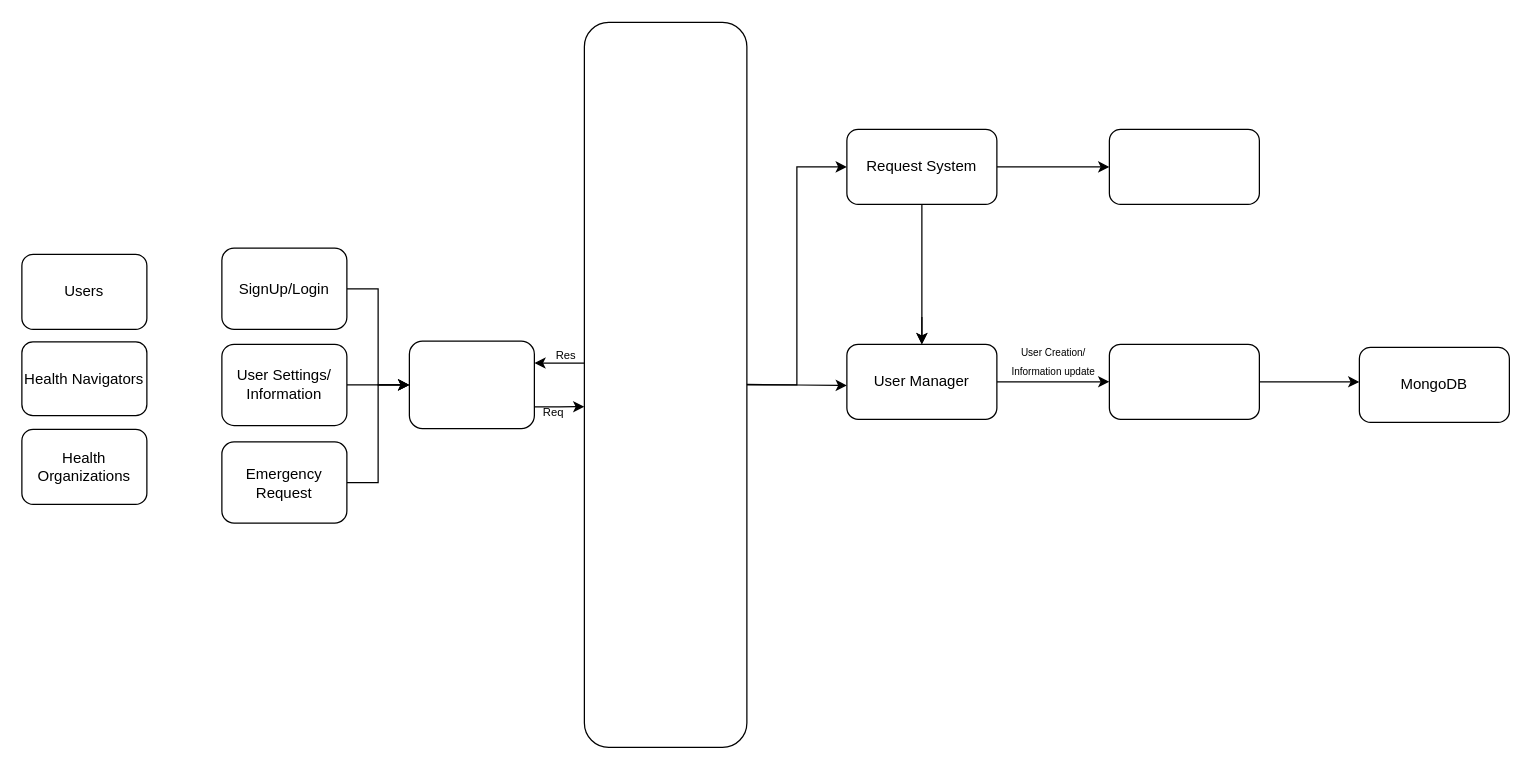
This 1531x769 diagram has some shape labels left out. The centre of each missing label's shape, as x and y in pixels:
"Database Manager" goes at pixel 1183 381.
"FrontEnd" goes at pixel 471 384.
"HTTP Server (REST API)" goes at pixel 665 384.
"Native Calling Service" goes at pixel 1183 166.
